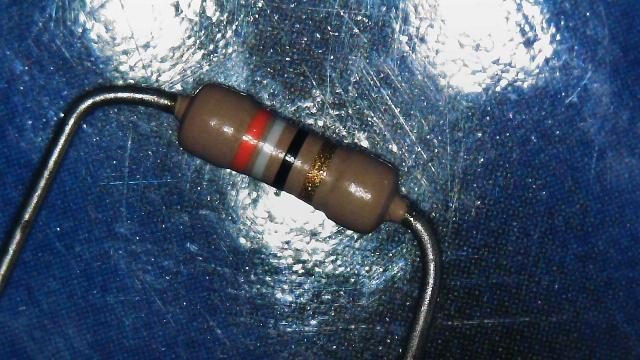black: (272, 129, 308, 190)
gold: (302, 142, 334, 197)
orange: (231, 108, 272, 173)
resistor: (159, 59, 430, 263)
white: (250, 118, 286, 181)
